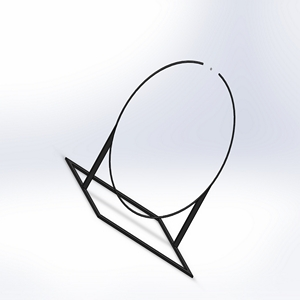circle: (63, 57, 238, 278)
